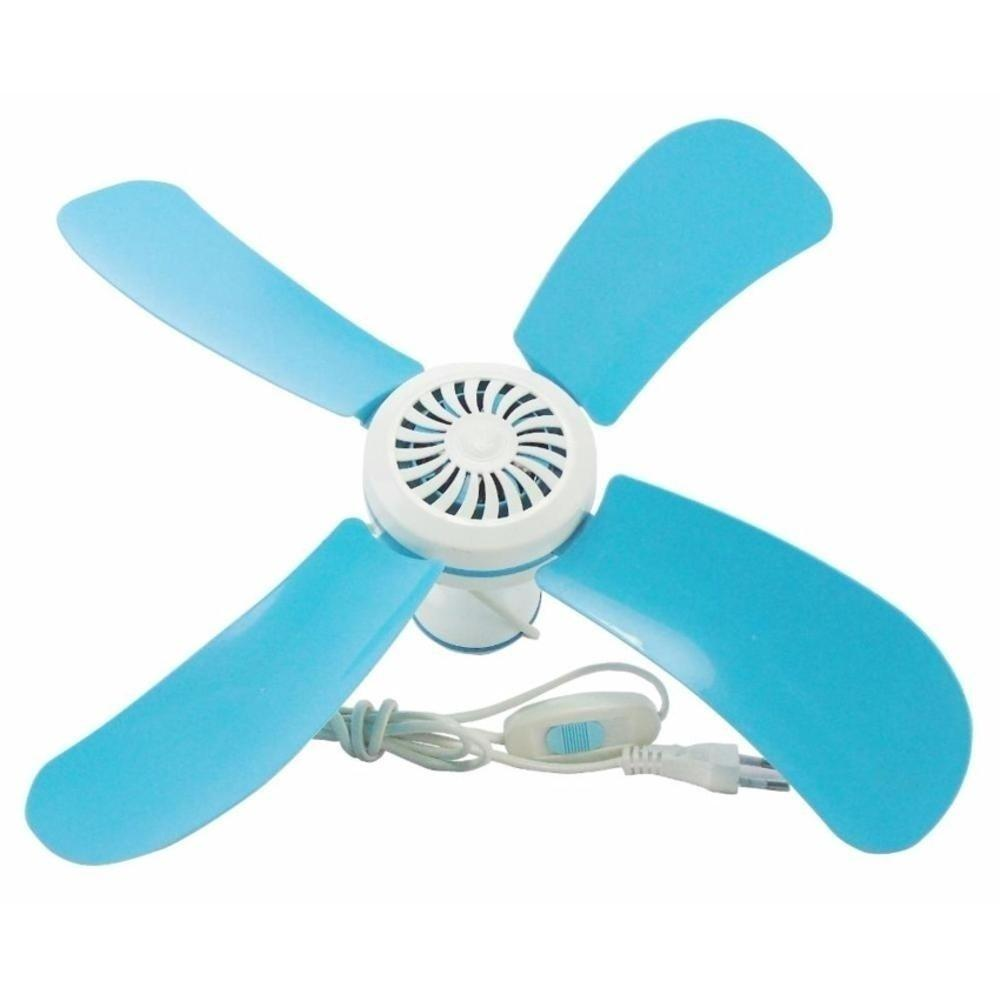fan: (25, 70, 971, 993)
